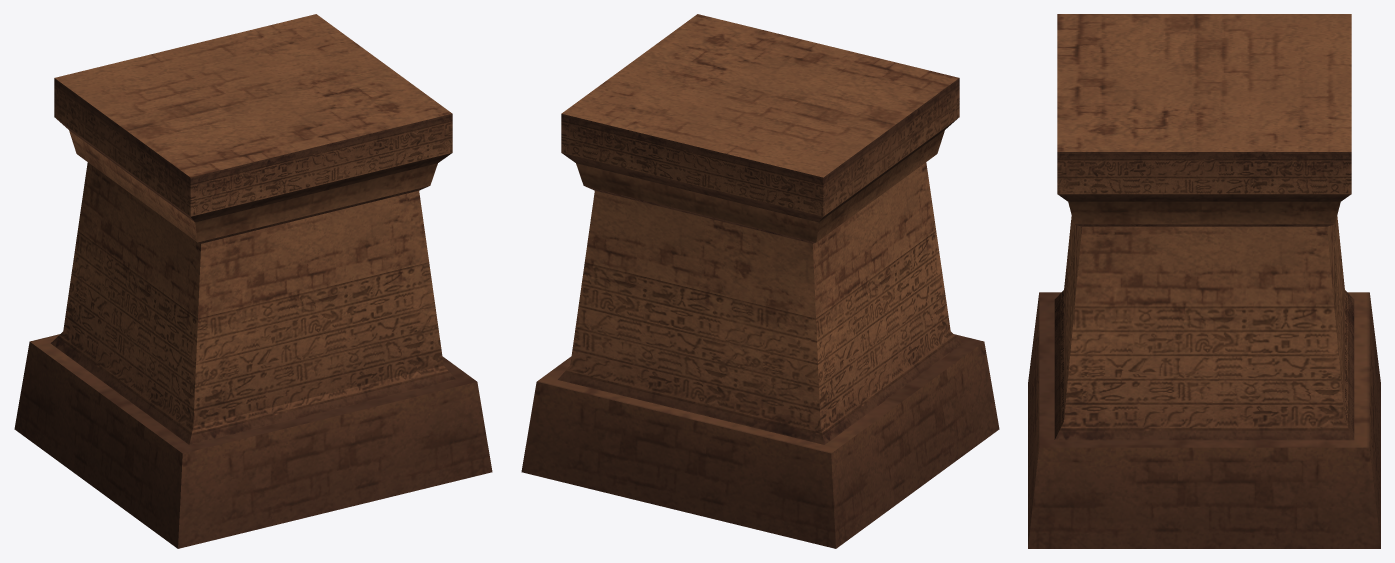
The model's file is pedestal_01.fbx.
3 views of the same model, side by side, from view 1: azimuth 30°, elevation 25°; view 2: azimuth 150°, elevation 25°; view 3: azimuth 270°, elevation 25° (orthographic). The views are drawn at different scales.
Visible parts, largest first — view 1: pedestal_01; view 2: pedestal_01; view 3: pedestal_01.
Part boxes in pixels (box(x1,y1,x2,y2)): pedestal_01: box(14, 14, 492, 548); pedestal_01: box(521, 14, 999, 548); pedestal_01: box(1028, 14, 1380, 548).
Bounding box in the file's own units: 44.64 × 48.13 × 40.18.
